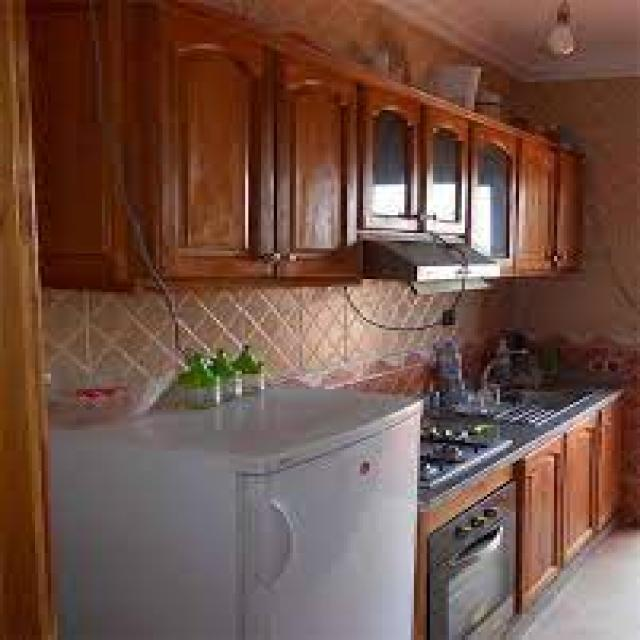oven: (433, 468, 532, 640)
refrigerator: (93, 391, 416, 640)
wardrobe: (108, 3, 594, 294)
